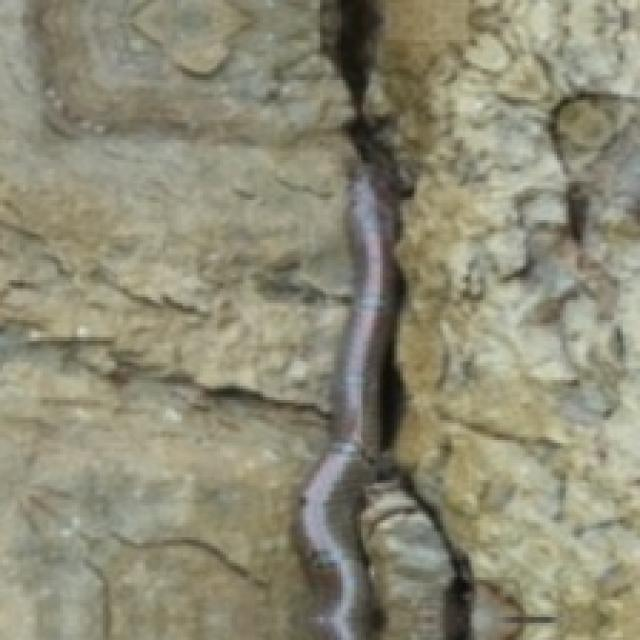northern short-headed snake: (297, 163, 540, 637)
